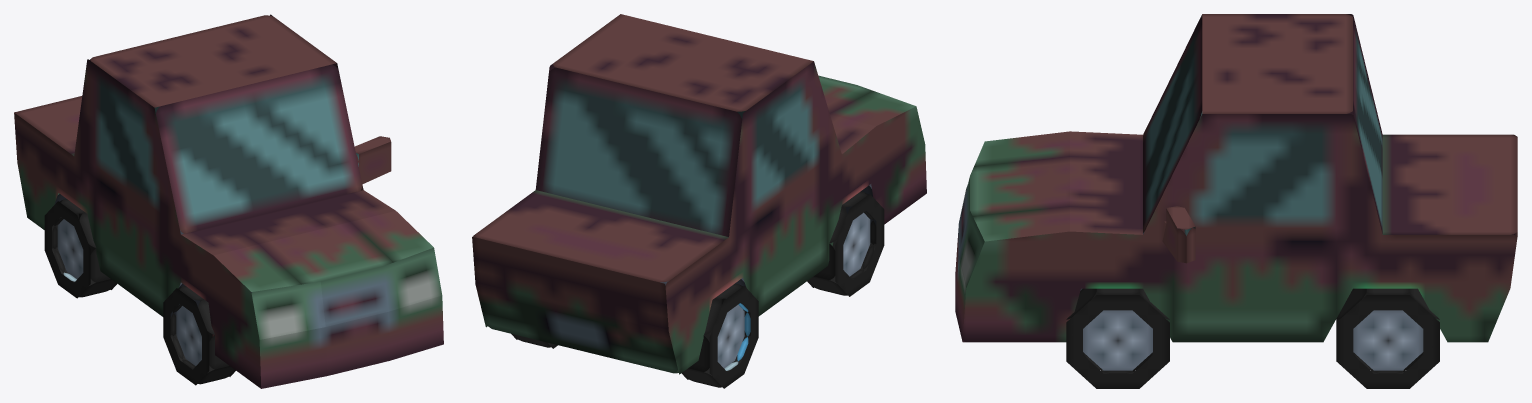
The model's file is truck_1.fbx.
The picture shows the model from 3 angles, left to right: view 1: azimuth 30°, elevation 25°; view 2: azimuth 150°, elevation 25°; view 3: azimuth 270°, elevation 25°; orthographic projection. The views are drawn at different scales.
Parts seen in each view (by area): view 1: cuboid, cylinder, cylinder_1, cuboid_1; view 2: cuboid, cylinder, cylinder_1; view 3: cuboid, cylinder_3, cylinder_2, cuboid_1.
Boxes of the visible parts, x1,y1,x2,y2 form: cuboid: (14,14,443,388); cylinder: (44,199,116,298); cylinder_1: (163,286,235,385); cuboid_1: (354,136,391,184); cuboid: (472,14,926,374); cylinder: (681,283,758,388); cylinder_1: (807,191,884,296); cuboid: (955,14,1517,342); cylinder_3: (1336,288,1439,388); cylinder_2: (1066,288,1169,388); cuboid_1: (1162,206,1195,263).
Bounding box in the file's own units: 128 × 127 × 238.
Materials: 1 (1 with a texture image).
